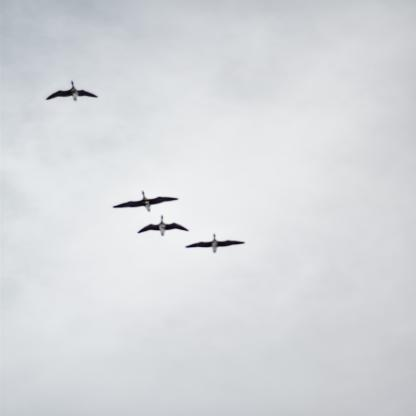bird: (113, 191, 180, 213), (185, 232, 245, 254), (45, 79, 99, 103), (137, 214, 189, 238)
